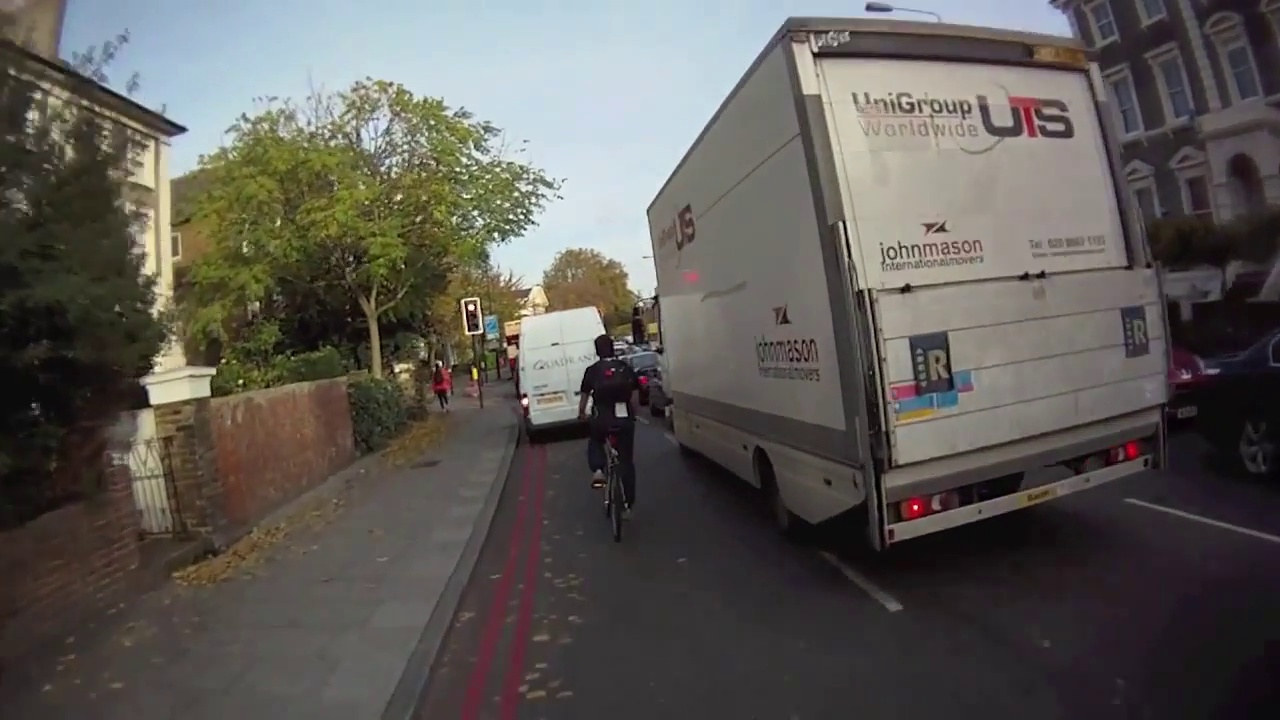cyclist_back: (578, 329, 654, 538)
